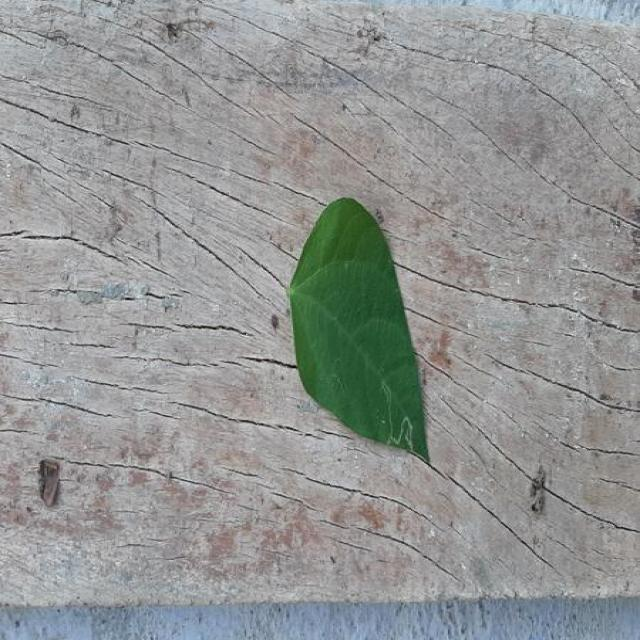beans: (290, 198, 428, 459)
